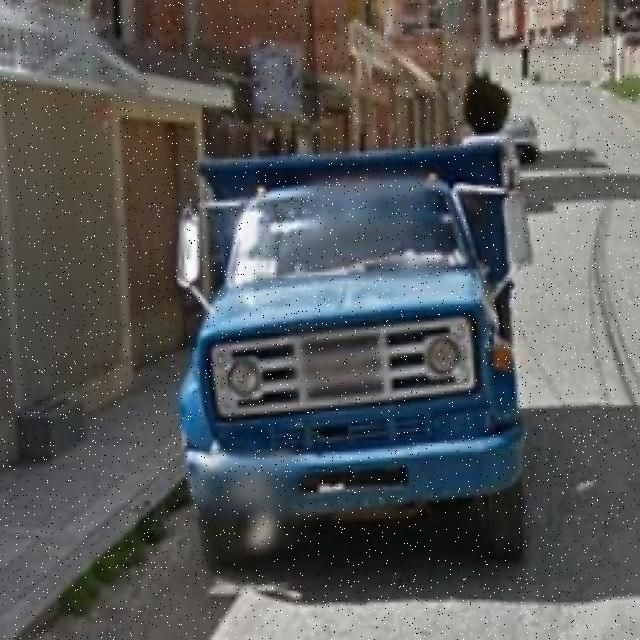cars: (183, 153, 539, 572)
